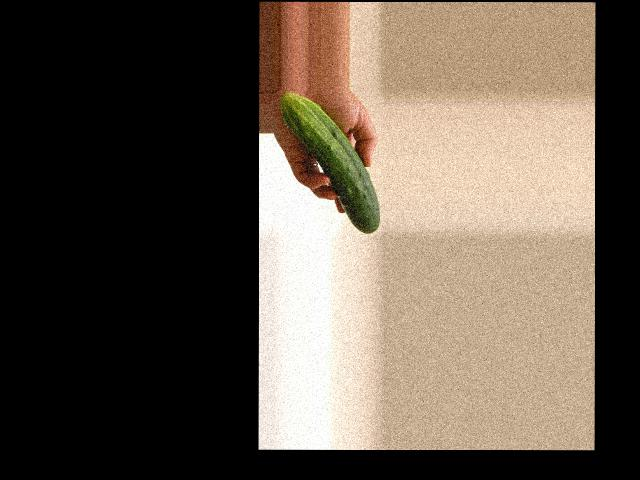cucumber: (279, 93, 379, 233)
